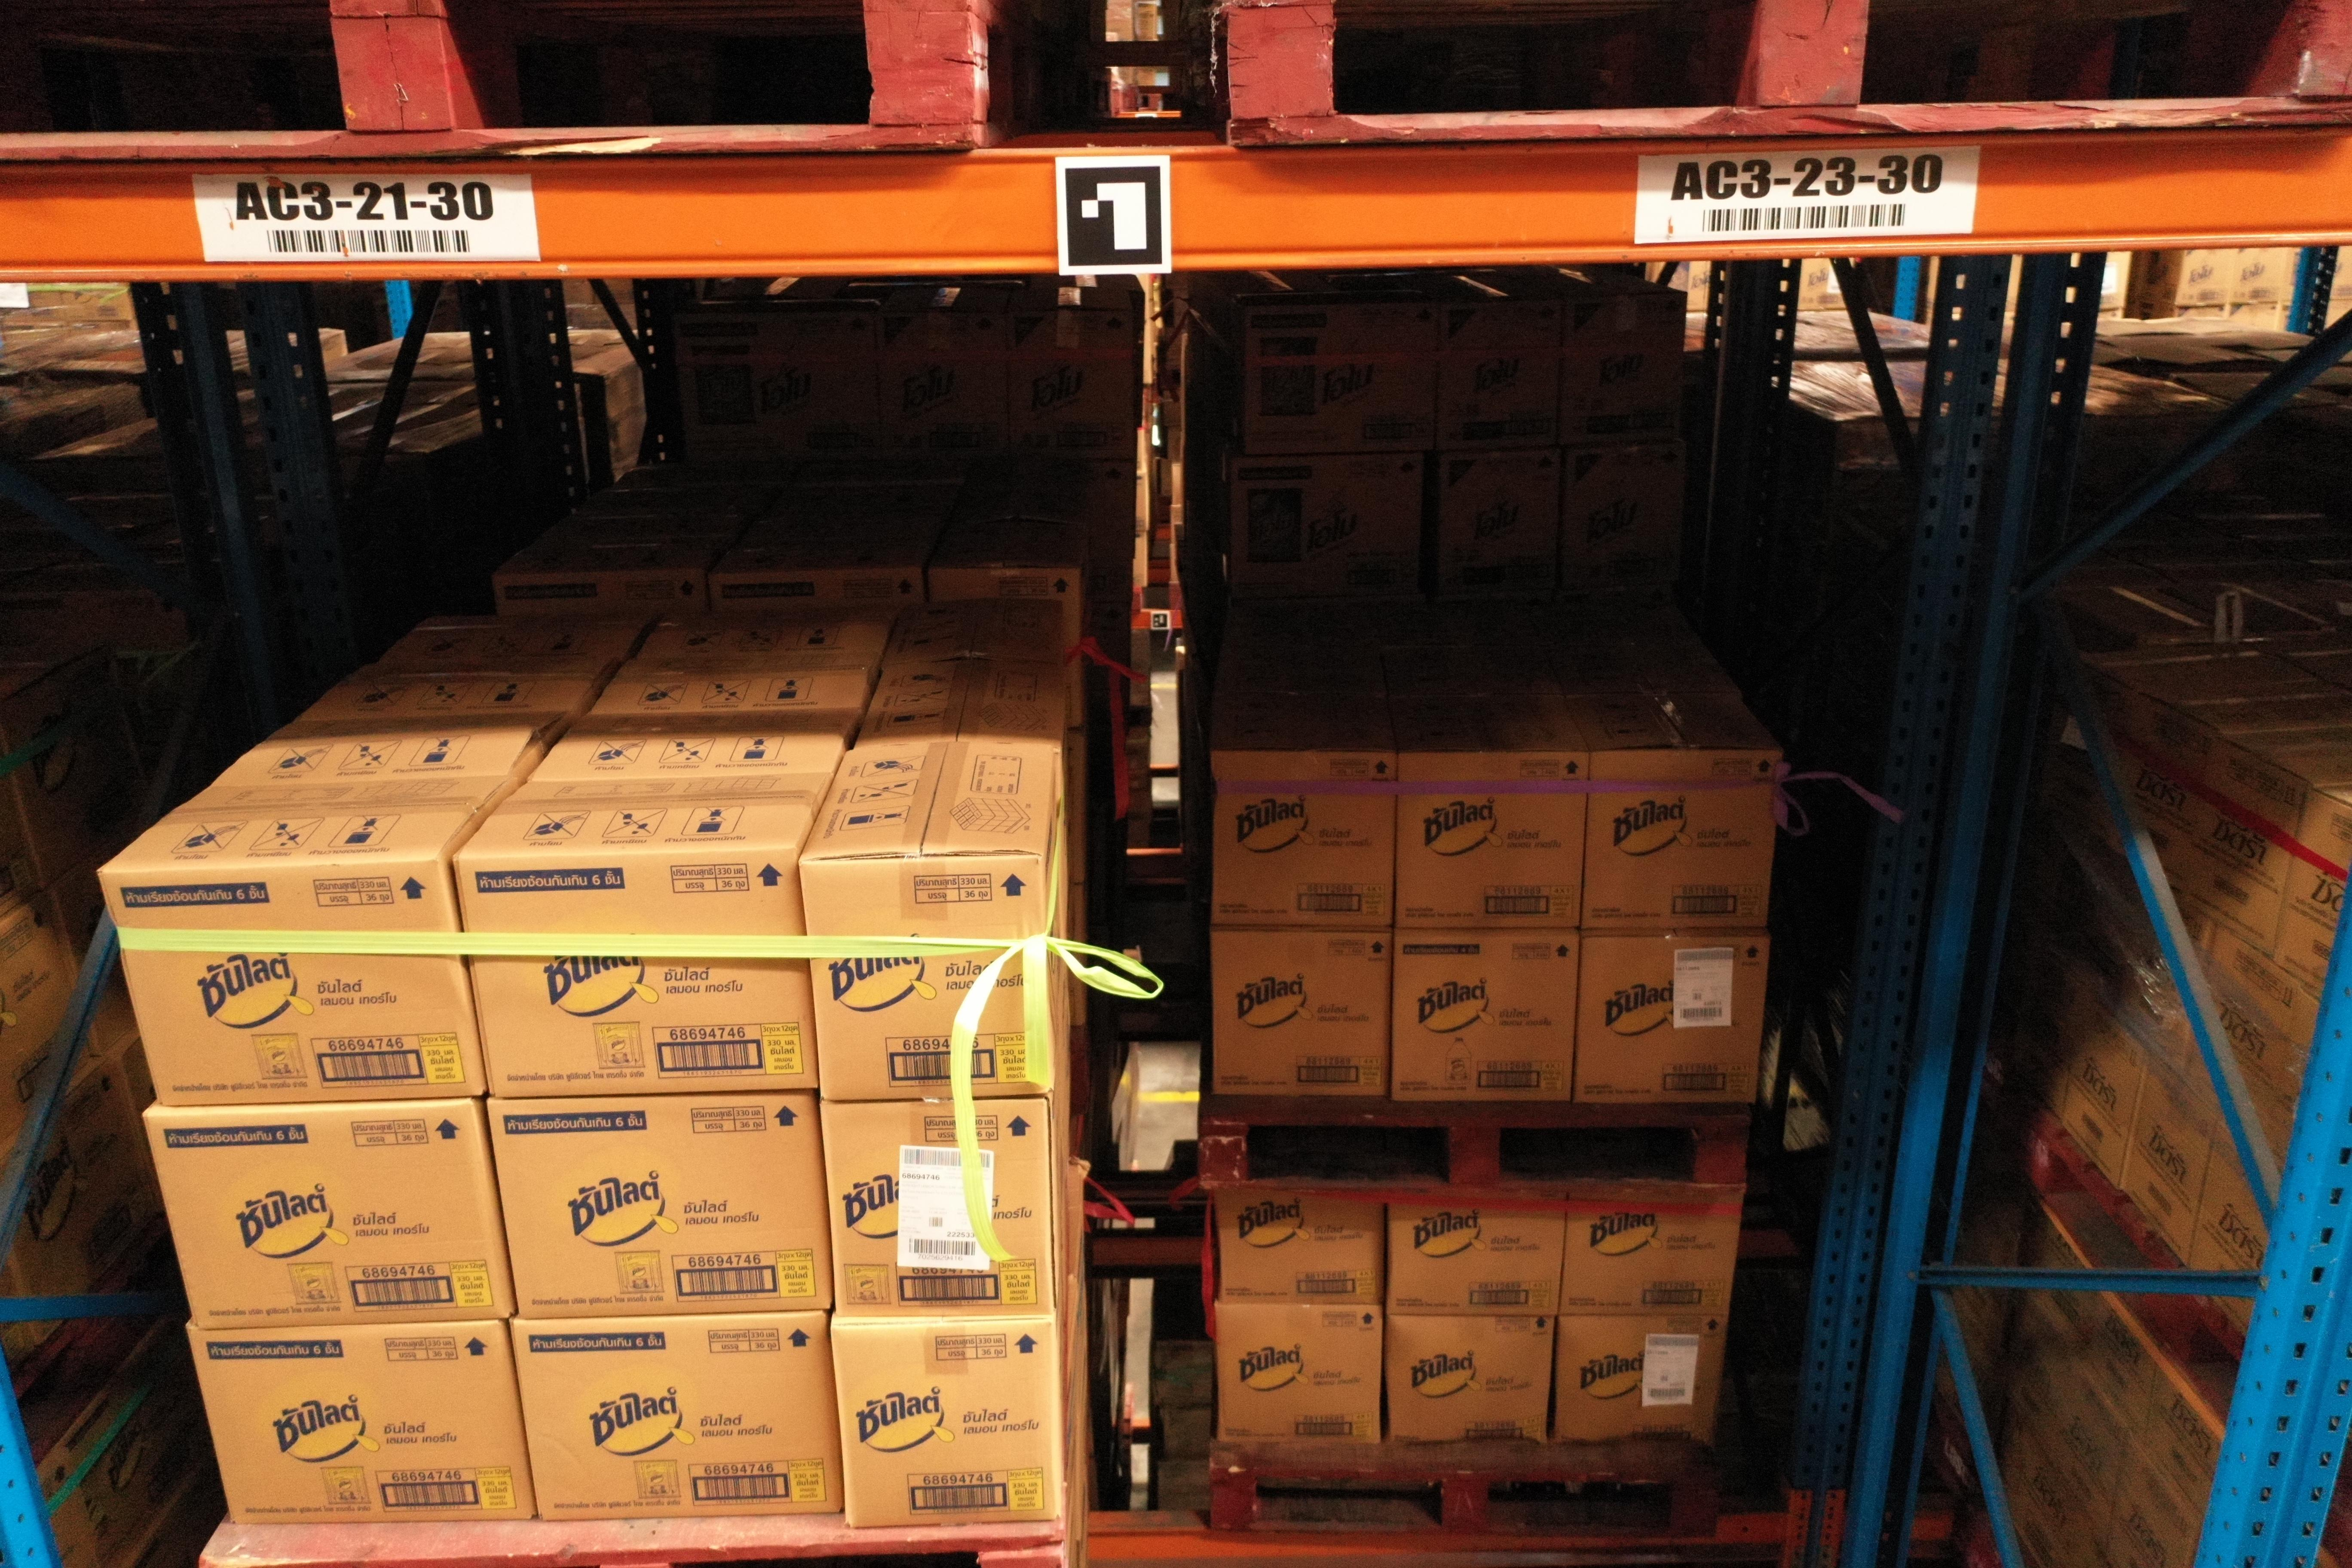-: (98, 859, 486, 1106), (453, 845, 817, 1097), (143, 1099, 513, 1333), (490, 1090, 831, 1321), (187, 1321, 535, 1524), (509, 1311, 843, 1519), (796, 857, 1053, 1099), (819, 1095, 1055, 1321), (831, 1318, 1066, 1528)
box: (1577, 752, 1778, 934), (1206, 745, 1398, 933), (1393, 751, 1589, 933), (1575, 929, 1769, 1104), (1388, 929, 1578, 1104), (1213, 924, 1389, 1101), (1213, 1305, 1384, 1447), (1384, 1311, 1556, 1447), (1554, 1316, 1727, 1449), (1213, 1185, 1384, 1307), (1386, 1202, 1568, 1316), (1564, 1206, 1739, 1321)
